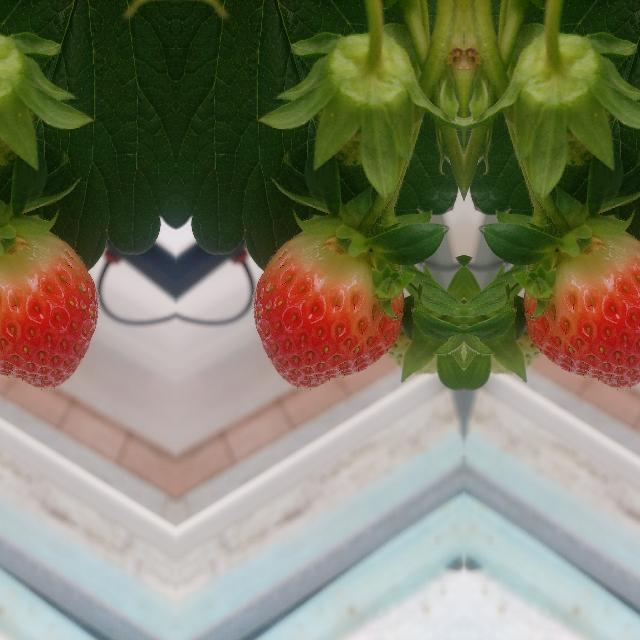Health_100: (252, 230, 402, 386), (524, 230, 640, 386), (0, 230, 98, 386)
